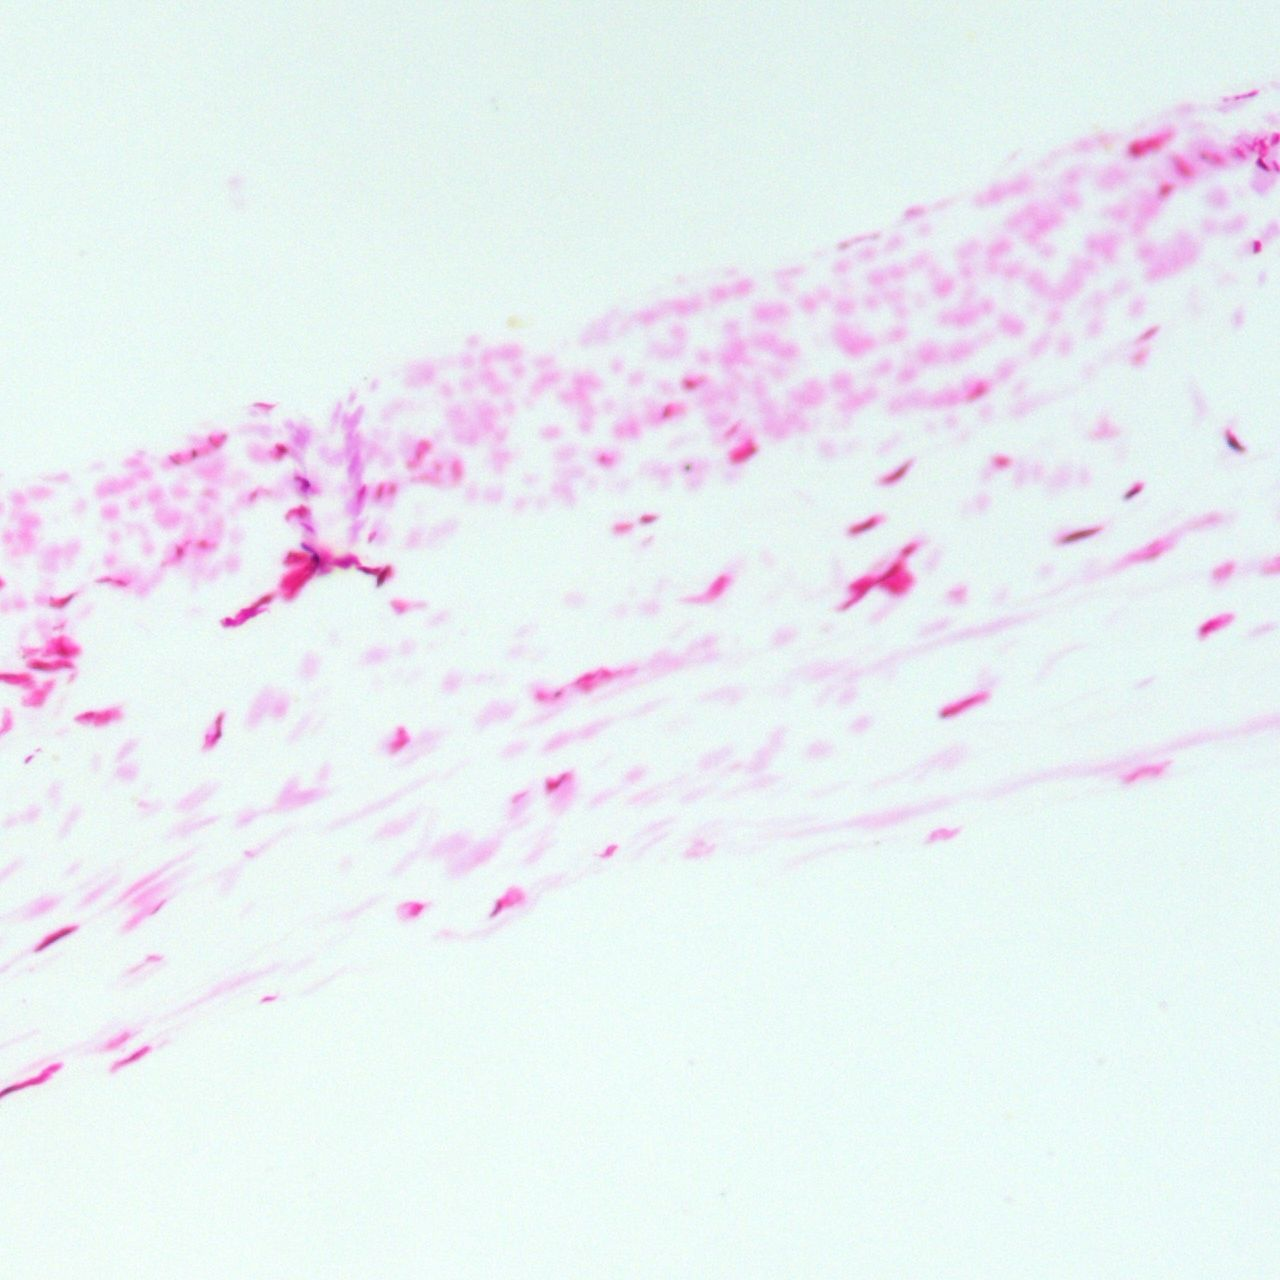dust: (680, 464, 690, 471)
nucleus-FG: (836, 559, 903, 614), (218, 591, 273, 633), (282, 548, 322, 602), (32, 918, 80, 953), (939, 689, 989, 718), (113, 1043, 152, 1068), (1199, 610, 1233, 637), (727, 439, 760, 466), (1060, 523, 1100, 545), (847, 514, 882, 538), (881, 461, 912, 487), (542, 770, 571, 795), (1221, 428, 1246, 456), (208, 712, 227, 748), (1121, 480, 1147, 501), (27, 658, 73, 669), (53, 639, 81, 655), (374, 564, 392, 588), (282, 506, 311, 519), (77, 708, 98, 725), (392, 726, 408, 748), (899, 539, 917, 558), (47, 594, 73, 607), (489, 897, 506, 915), (332, 556, 357, 568), (1255, 158, 1272, 175), (636, 513, 660, 525), (295, 476, 310, 493), (407, 901, 424, 916), (1131, 142, 1148, 157), (595, 455, 615, 467), (355, 483, 366, 504), (659, 405, 675, 419), (374, 482, 385, 501), (285, 552, 302, 564), (357, 565, 381, 573), (274, 443, 285, 458), (1253, 240, 1263, 254), (368, 530, 377, 545), (682, 379, 698, 387), (189, 447, 197, 459)
